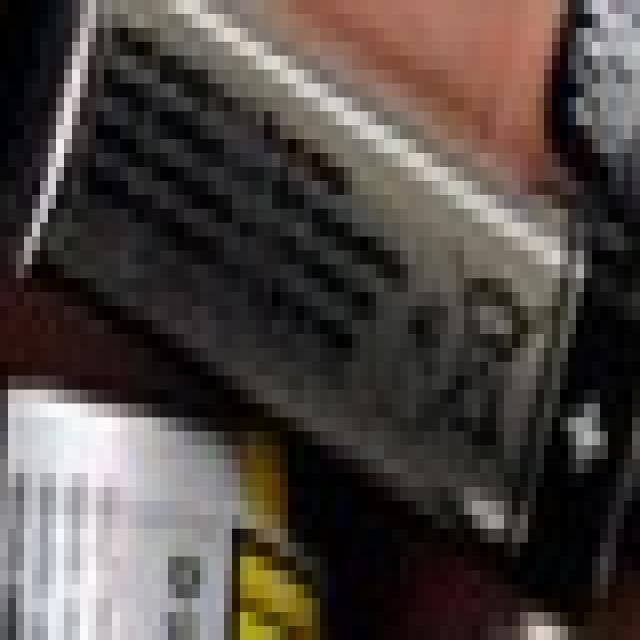battery: (19, 0, 640, 574)
